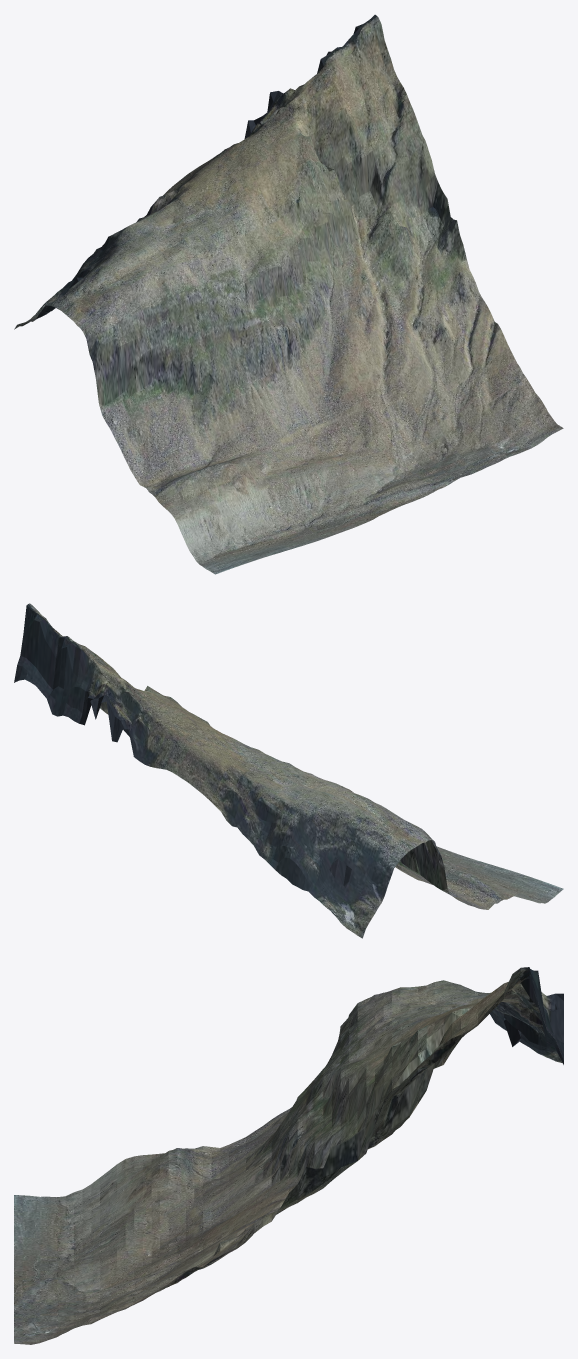
The model's file is Silv_tile_40.gltf.
The picture shows the model from 3 angles, top to bottom: view 1: azimuth 30°, elevation 25°; view 2: azimuth 150°, elevation 25°; view 3: azimuth 270°, elevation 25°; orthographic projection. The views are drawn at different scales.
Parts seen in each view (by area): view 1: 18.020; view 2: 18.020; view 3: 18.020.
Boxes of the visible parts, bbox=[...] form: 18.020: bbox=[14, 14, 563, 574]; 18.020: bbox=[14, 603, 563, 938]; 18.020: bbox=[14, 967, 563, 1344].
Bounding box in the file's own units: 0.5 × 0.464 × 0.5.
1 material, 1 textured.
